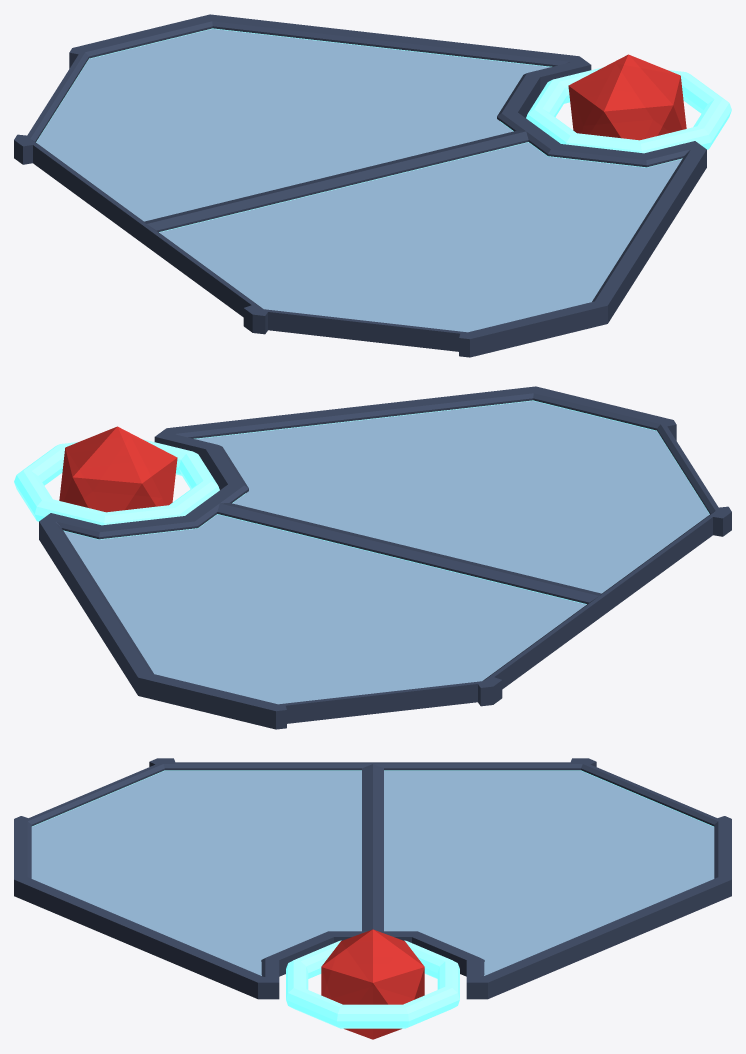
The model's file is gameLift.glb.
3 renders of one model, top to bottom at view 1: azimuth 30°, elevation 25°; view 2: azimuth 150°, elevation 25°; view 3: azimuth 270°, elevation 25°, orthographic. The views are drawn at different scales.
Visible parts, largest first — view 1: LiftGlass, LiftBorders, Diamond, Ring; view 2: LiftGlass, LiftBorders, Diamond, Ring; view 3: LiftGlass, LiftBorders, Diamond, Ring.
Boxes of the visible parts, x1,y1,x2,y2 form: LiftGlass: [36, 29, 681, 332]; LiftBorders: [14, 14, 706, 357]; Diamond: [568, 54, 686, 140]; Ring: [526, 67, 731, 153]; LiftGlass: [64, 401, 709, 704]; LiftBorders: [39, 386, 731, 729]; Diamond: [59, 426, 177, 512]; Ring: [14, 439, 219, 525]; LiftGlass: [31, 770, 714, 975]; LiftBorders: [14, 758, 731, 999]; Diamond: [321, 929, 424, 1039]; Ring: [286, 940, 459, 1028].
Size of the model in its own units: 2.97 by 0.6 by 3.54.
